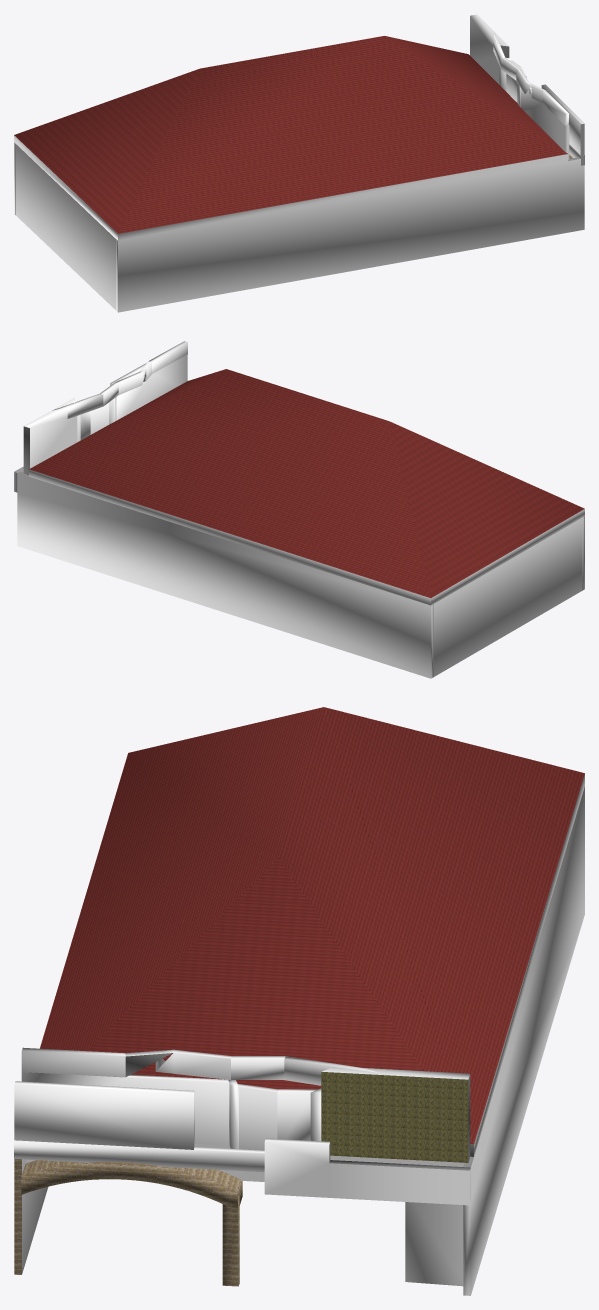
The model's file is sariilmu.glb.
The picture shows the model from 3 angles, top to bottom: view 1: azimuth 30°, elevation 25°; view 2: azimuth 150°, elevation 25°; view 3: azimuth 270°, elevation 25°; orthographic projection. The views are drawn at different scales.
Parts seen in each view (by area): view 1: Mesh12 Generic_Roof___300mm1 Group1 Model, Mesh1 Generic___200mm3_1 Group1 Model, Mesh21 Generic___200mm2_1 Group1 Model, Mesh18 Generic___375mm1 Group1 Model, Mesh6 Generic___200mm4_1 Group1 Model, Mesh13 Generic___200mm20_1 Group1 Model, Mesh7 Generic___200mm14_1 Group1 Model; view 2: Mesh12 Generic_Roof___300mm1 Group1 Model, Mesh8 Generic___200mm1 Group1 Model, Mesh21 Generic___200mm2_1 Group1 Model, Mesh18 Generic___375mm1 Group1 Model, Mesh6 Generic___200mm4_1 Group1 Model, Mesh9 Generic___200mm10_1 Group1 Model, Mesh7 Generic___200mm14_1 Group1 Model, Mesh19 Generic___200mm7_1 Group1 Model; view 3: Mesh12 Generic_Roof___300mm1 Group1 Model, Mesh8 Generic___200mm1 Group1 Model, Mesh18 Generic___375mm1 Group1 Model, Mesh13 Generic___200mm20_1 Group1 Model, Mesh4 Generic___200mm19_1 Group1 Model, Mesh5 Generic_Roof___500mm1 Group1 Model, Mesh3 Generic___200mm23_1 Group1 Model, Mesh11 Generic___200mm16_1 Group1 Model, Mesh6 Generic___200mm4_1 Group1 Model, Mesh17 Generic___200mm18_1 Group1 Model, Mesh7 Generic___200mm14_1 Group1 Model, Mesh19 Generic___200mm7_1 Group1 Model (+7 smaller).
Part boxes in pixels (x1=…): Mesh12 Generic_Roof___300mm1 Group1 Model: x1=14, y1=36, x2=567, y2=240; Mesh1 Generic___200mm3_1 Group1 Model: x1=116, y1=157, x2=584, y2=312; Mesh21 Generic___200mm2_1 Group1 Model: x1=15, y1=144, x2=116, y2=310; Mesh18 Generic___375mm1 Group1 Model: x1=470, y1=14, x2=509, y2=84; Mesh6 Generic___200mm4_1 Group1 Model: x1=520, y1=88, x2=569, y2=159; Mesh13 Generic___200mm20_1 Group1 Model: x1=541, y1=84, x2=584, y2=155; Mesh7 Generic___200mm14_1 Group1 Model: x1=542, y1=91, x2=568, y2=125; Mesh12 Generic_Roof___300mm1 Group1 Model: x1=29, y1=369, x2=584, y2=605; Mesh8 Generic___200mm1 Group1 Model: x1=17, y1=471, x2=433, y2=678; Mesh21 Generic___200mm2_1 Group1 Model: x1=433, y1=518, x2=582, y2=676; Mesh18 Generic___375mm1 Group1 Model: x1=23, y1=398, x2=77, y2=475; Mesh6 Generic___200mm4_1 Group1 Model: x1=116, y1=354, x2=187, y2=420; Mesh9 Generic___200mm10_1 Group1 Model: x1=52, y1=393, x2=103, y2=418; Mesh7 Generic___200mm14_1 Group1 Model: x1=148, y1=341, x2=187, y2=373; Mesh19 Generic___200mm7_1 Group1 Model: x1=90, y1=402, x2=108, y2=434; Mesh12 Generic_Roof___300mm1 Group1 Model: x1=40, y1=707, x2=584, y2=1156; Mesh8 Generic___200mm1 Group1 Model: x1=463, y1=786, x2=584, y2=1295; Mesh18 Generic___375mm1 Group1 Model: x1=321, y1=1067, x2=470, y2=1162; Mesh13 Generic___200mm20_1 Group1 Model: x1=14, y1=1081, x2=194, y2=1149; Mesh4 Generic___200mm19_1 Group1 Model: x1=329, y1=1160, x2=470, y2=1205; Mesh5 Generic_Roof___500mm1 Group1 Model: x1=21, y1=1160, x2=242, y2=1211; Mesh3 Generic___200mm23_1 Group1 Model: x1=14, y1=1140, x2=264, y2=1172; Mesh11 Generic___200mm16_1 Group1 Model: x1=405, y1=1202, x2=463, y2=1286; Mesh6 Generic___200mm4_1 Group1 Model: x1=21, y1=1072, x2=229, y2=1145; Mesh17 Generic___200mm18_1 Group1 Model: x1=264, y1=1138, x2=330, y2=1197; Mesh7 Generic___200mm14_1 Group1 Model: x1=21, y1=1047, x2=125, y2=1077; Mesh19 Generic___200mm7_1 Group1 Model: x1=238, y1=1084, x2=278, y2=1150.
Size of the model in its own units: 25.03 by 8.83 by 14.91.
Materials: 5 (3 with a texture image).
